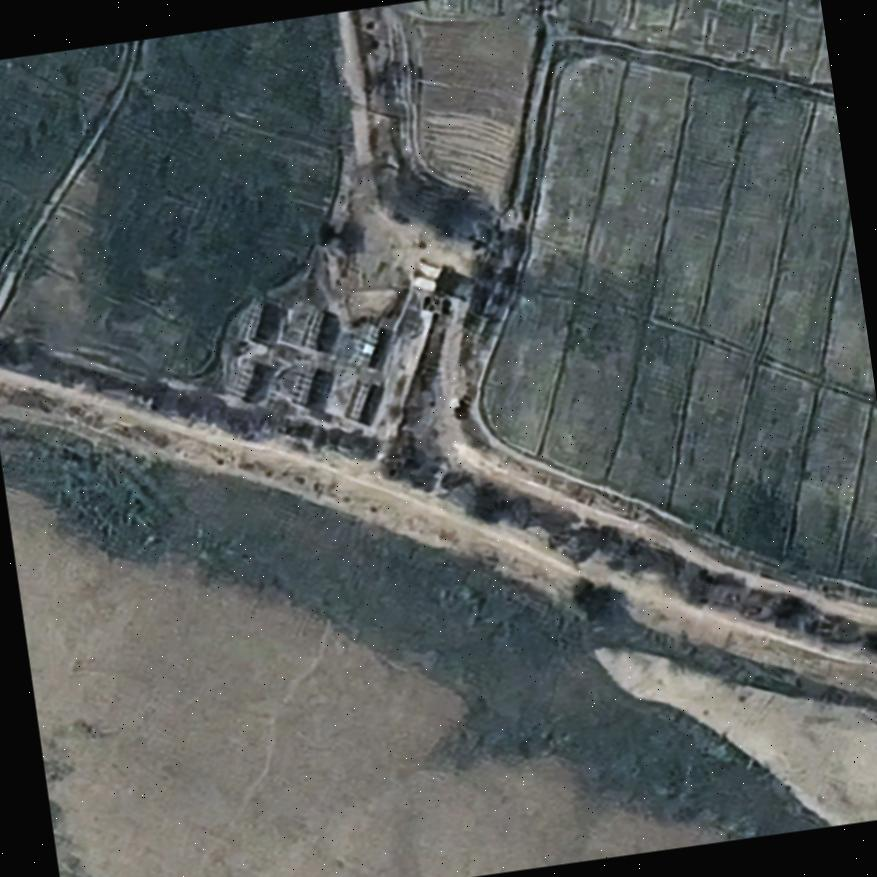Solarpanel: (345, 319, 384, 374), (223, 354, 258, 402), (284, 361, 318, 410), (340, 377, 374, 424), (297, 305, 331, 351), (236, 294, 266, 342)
